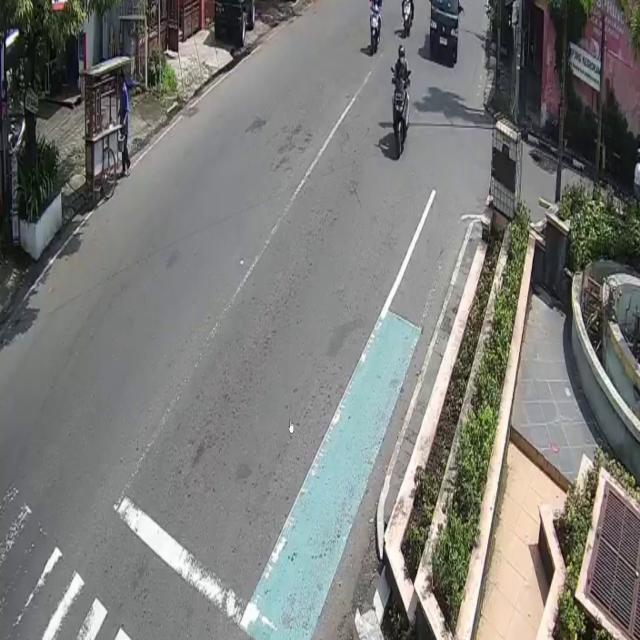motorbike: (392, 75, 410, 158), (369, 3, 381, 54)
